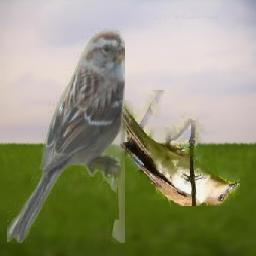Cuckoo: (108, 90, 241, 206)
Sparrow: (7, 29, 125, 244)
